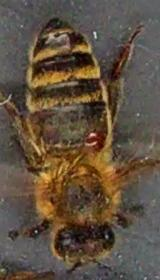varroa_mite: (78, 119, 107, 153)
